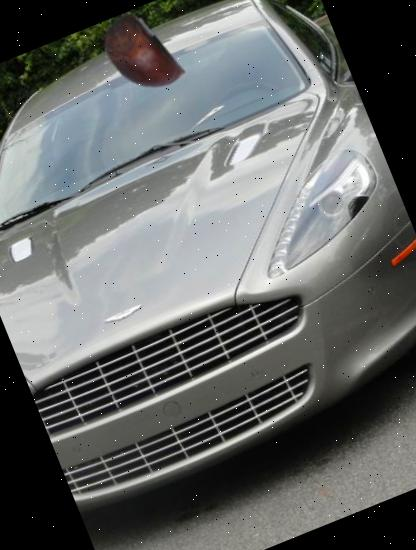Chestnut: (81, 0, 197, 114)
